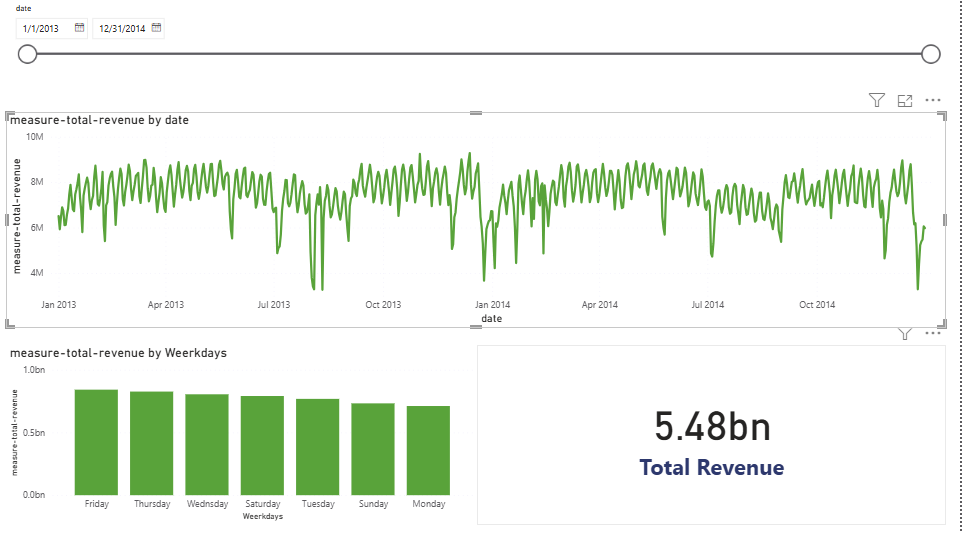

This screenshot's page, from the dashboard's own definition file:
{"tool":"powerbi","page":{"name":"Page 1","canvas":[1280,720],"ordinal":0},"visuals":[{"type":"lineChart","fields":{"Category":["taxi-all.date"],"Y":["taxi-all.measure-revenue-per-passenger"]},"box":[10.3,159.3,1252,287.6],"z":0},{"type":"columnChart","fields":{"Y":["taxi-all.measure-total-revenue"],"Category":["Weekdays.Weerkdays"]},"box":[10.3,470.4,626.7,238.9],"z":1},{"type":"slicer","fields":{"Values":["taxi-all.date"]},"box":[10.3,10.3,1252,131.2],"z":2},{"type":"card","fields":{"Values":["taxi-all.measure-total-revenue"]},"box":[637,470,625,239],"z":3}]}

Visuals, with their boxes in screenshot pixels (x1, y1, x2, y2), scaled from the page's 1280x720 canvas onto the 972x533 screenshot:
lineChart - taxi-all.date x taxi-all.measure-revenue-per-passenger: 8:118:959:331
columnChart - taxi-all.measure-total-revenue x Weekdays.Weerkdays: 8:348:484:525
slicer - taxi-all.date: 8:8:959:105
card - taxi-all.measure-total-revenue: 484:348:958:525
